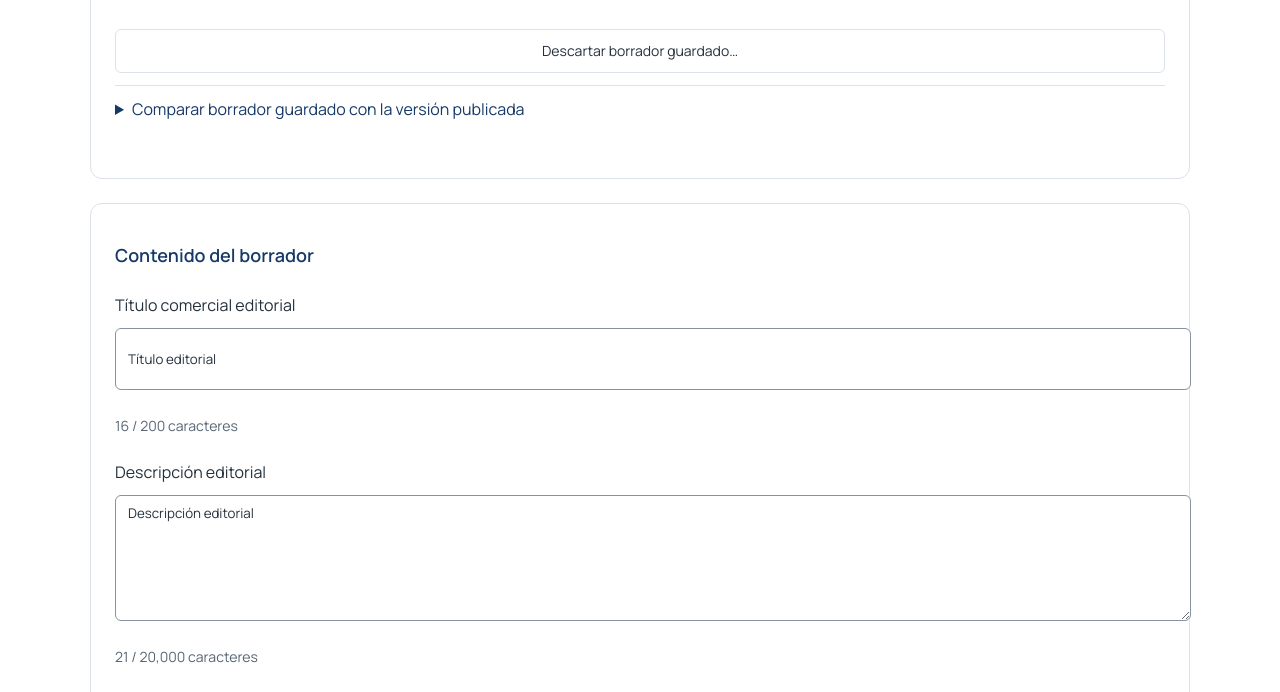
Test: editorial editor integration › requires confirmation to discard on refresh and offers retain independently
The width and height of the screenshot is (1280, 692).
(page scrolled)
Replace the text in the field with id "editorial-commercialTitle" with "LOCAL" at (653, 359), box left=115, top=328, right=1191, bottom=390
(page scrolled)
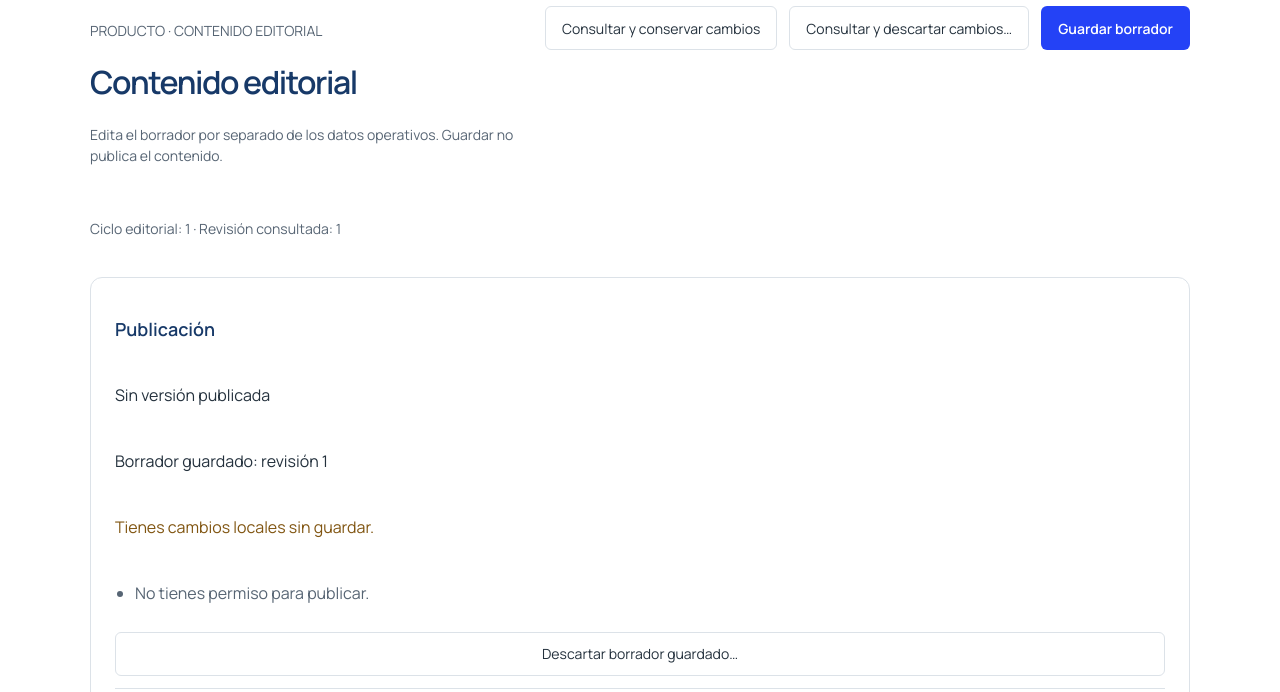
Click the button with test id "refresh-discard".
click(909, 28)  # box left=789, top=6, right=1029, bottom=50
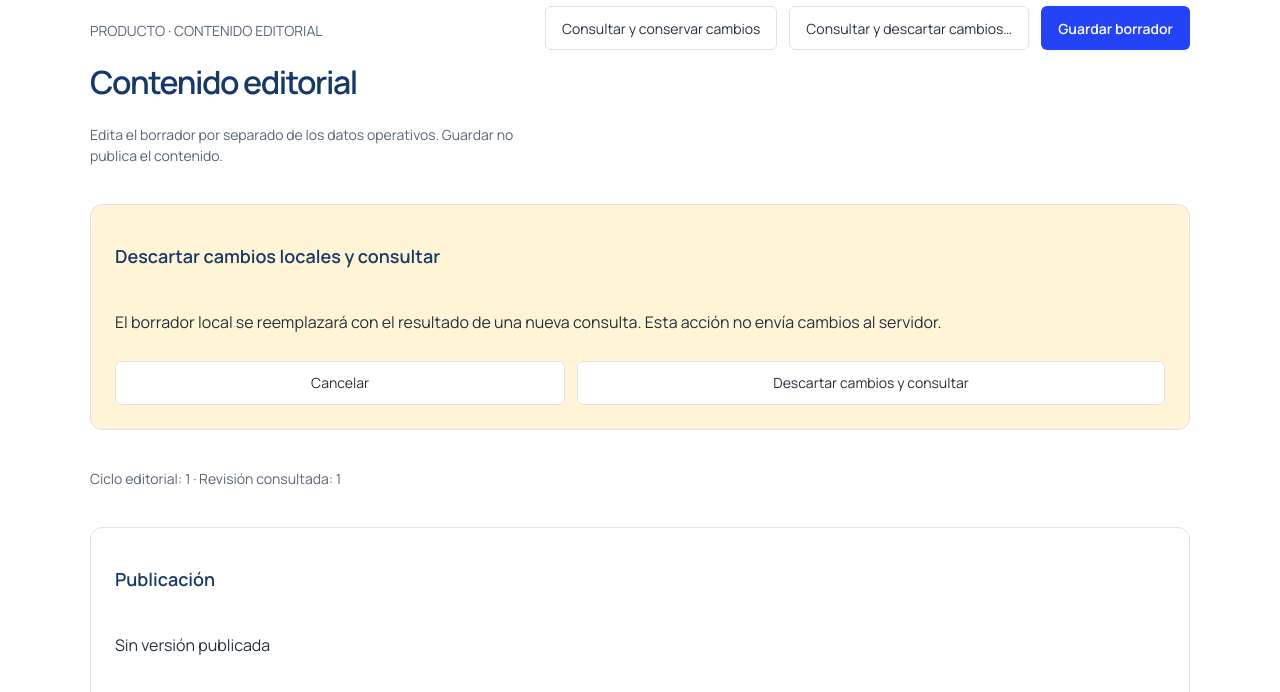
Click the button with test id "cancel-discard".
click(340, 383)  # box left=115, top=361, right=565, bottom=405
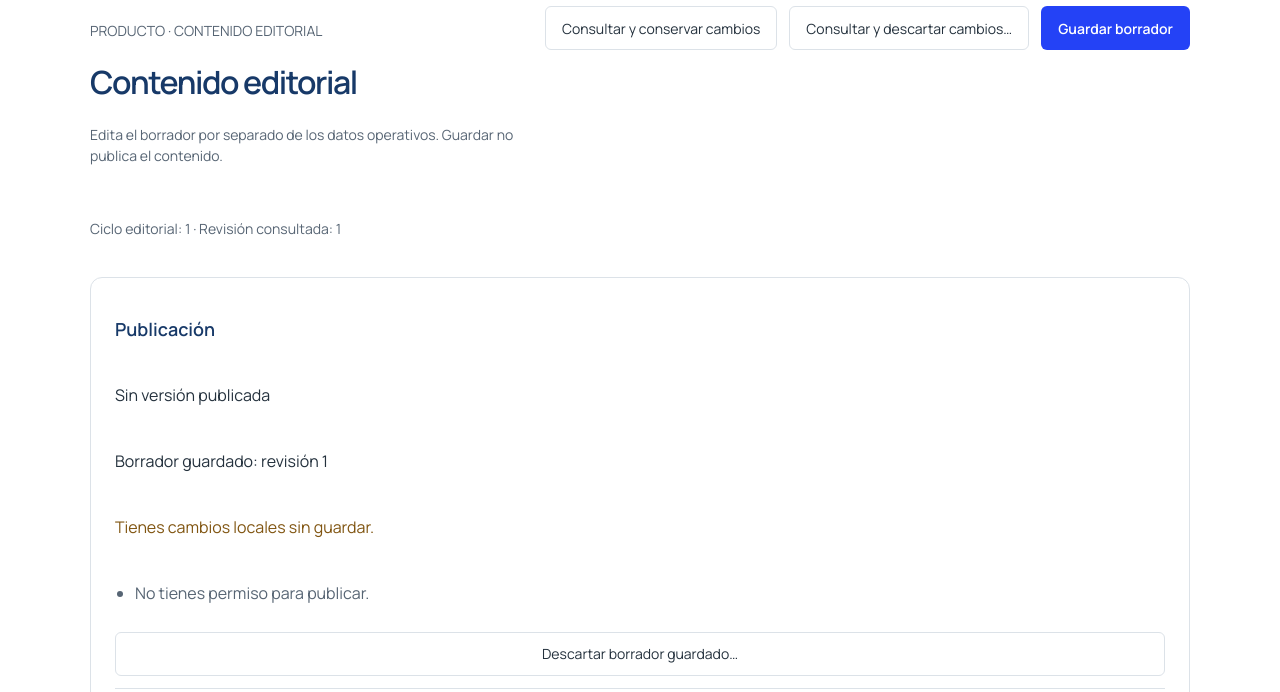
Click the button with test id "refresh-retain".
click(661, 28)  # box left=545, top=6, right=777, bottom=50
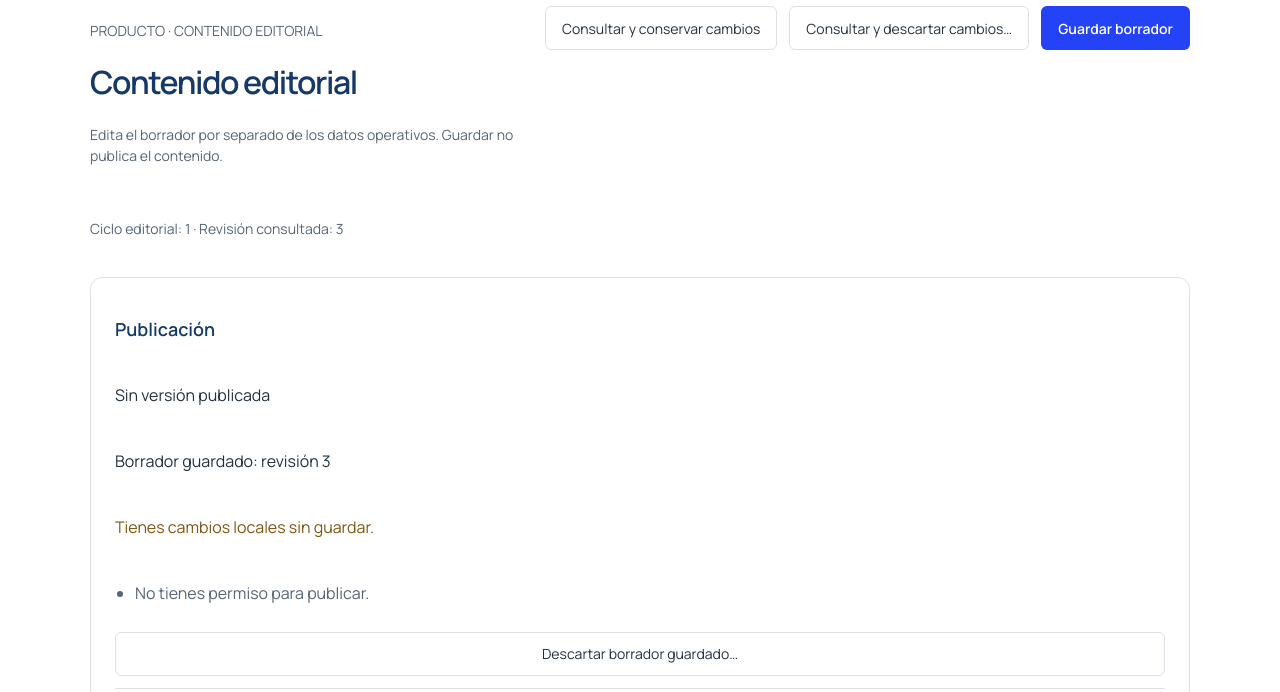
Click the button with test id "refresh-discard".
click(909, 28)  # box left=789, top=6, right=1029, bottom=50
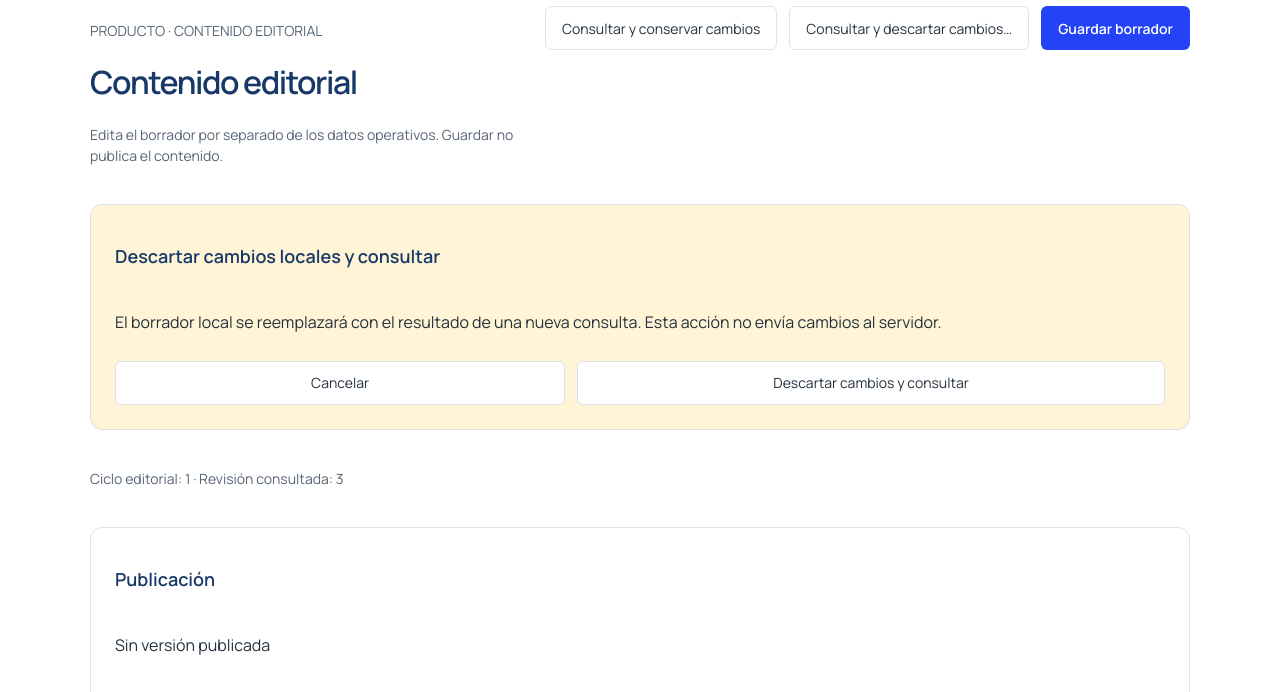
Click the button with test id "confirm-discard".
click(871, 383)  # box left=577, top=361, right=1165, bottom=405
(page scrolled)
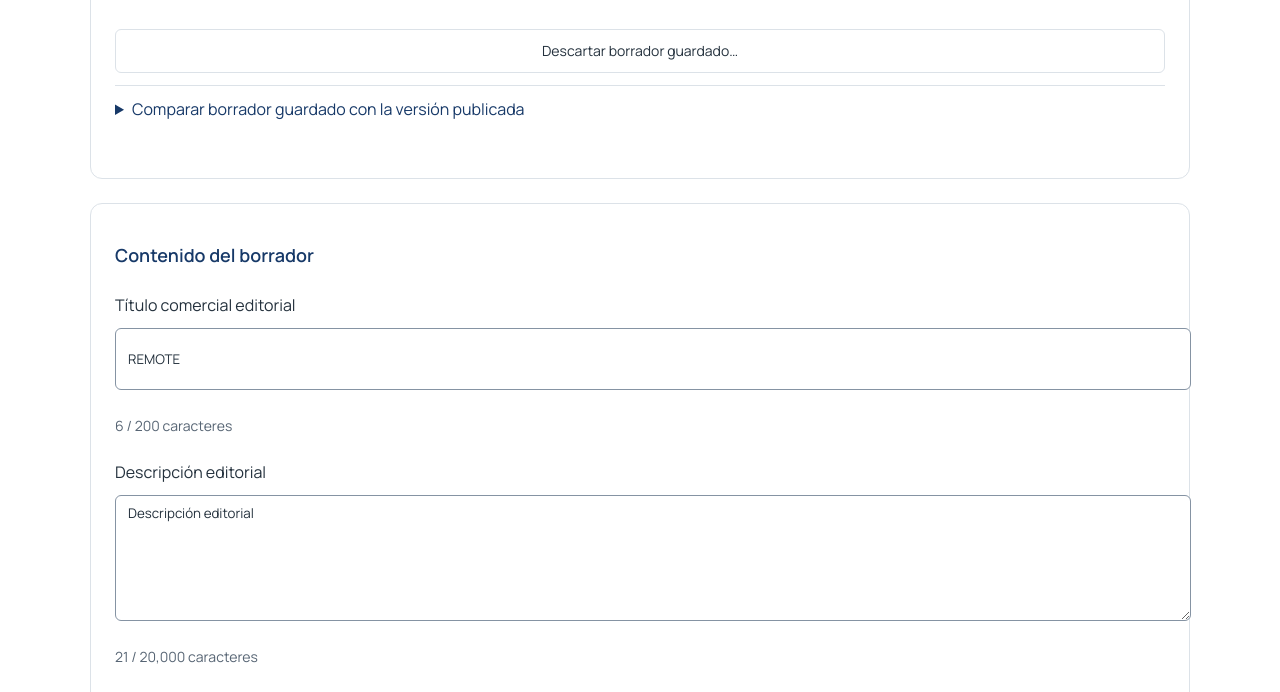
Now the field with id "editorial-commercialTitle" holds "REMOTE", box left=115, top=328, right=1191, bottom=390
